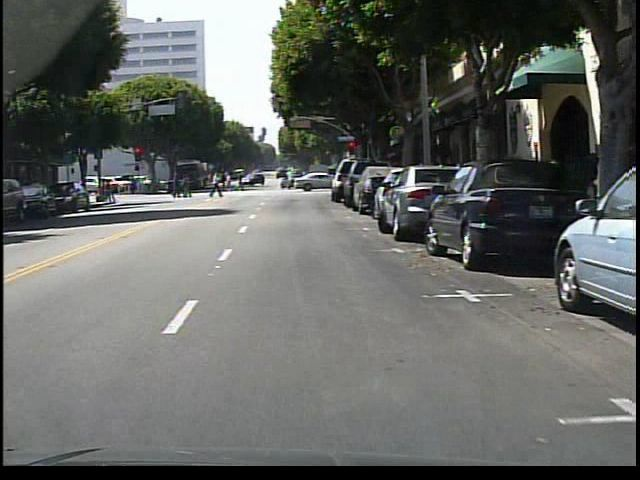person: (205, 169, 225, 199)
